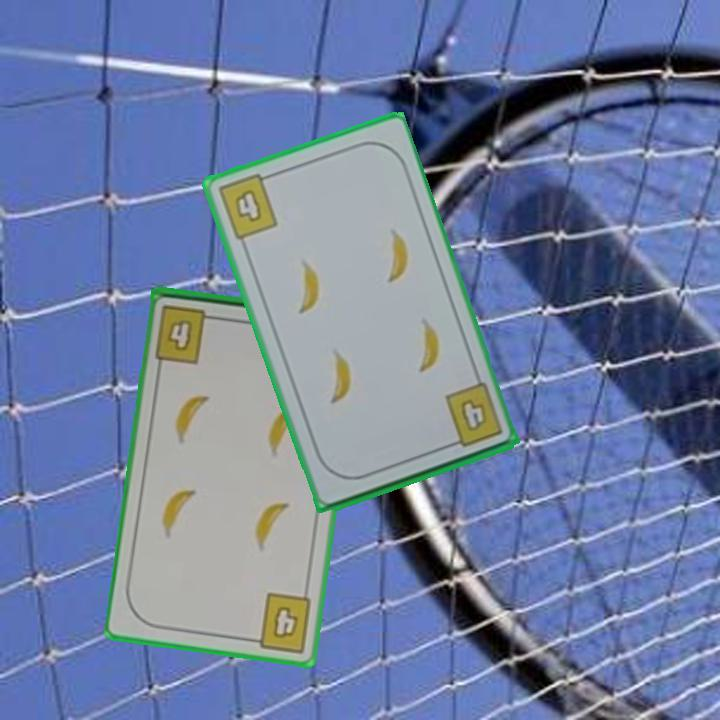4b: (213, 169, 281, 243), (440, 379, 506, 451), (245, 589, 315, 656), (151, 301, 222, 367)
